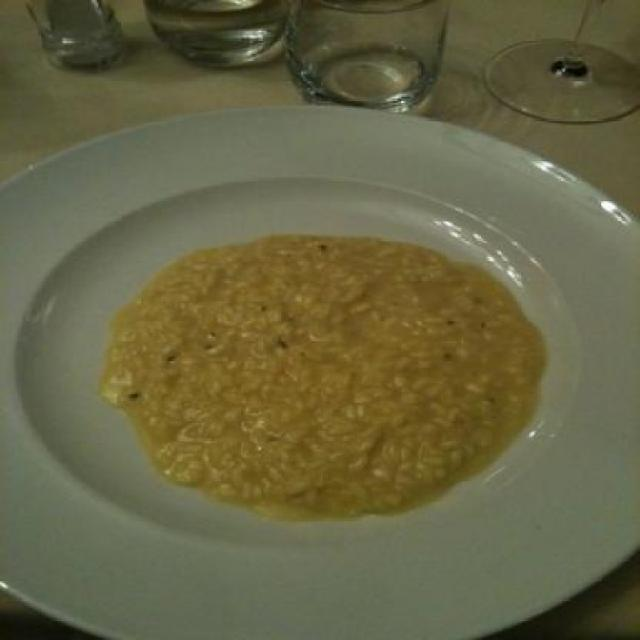Risotto: (126, 244, 543, 516)
